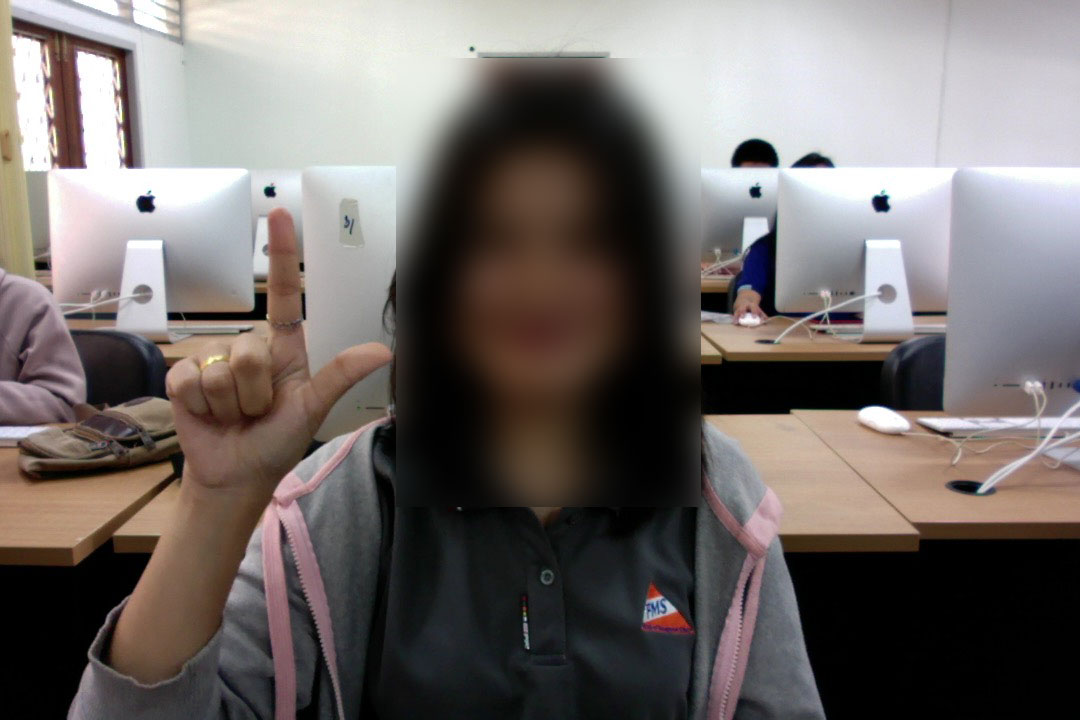lor: (149, 199, 399, 522)
